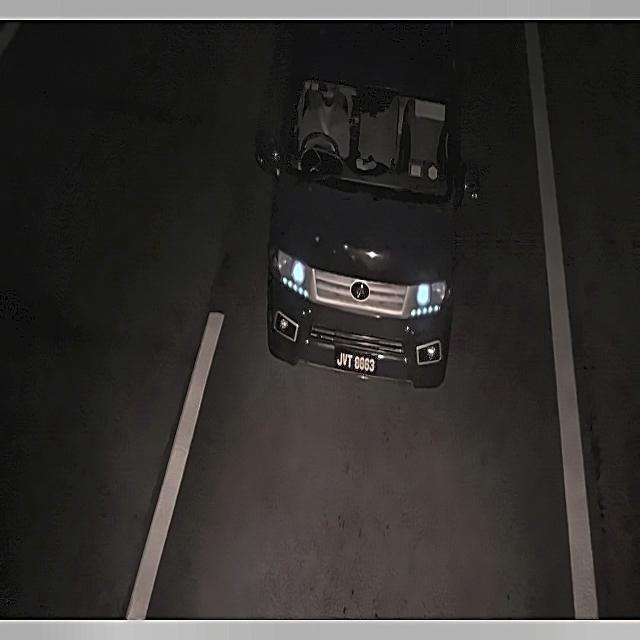car: (333, 337, 380, 381)
